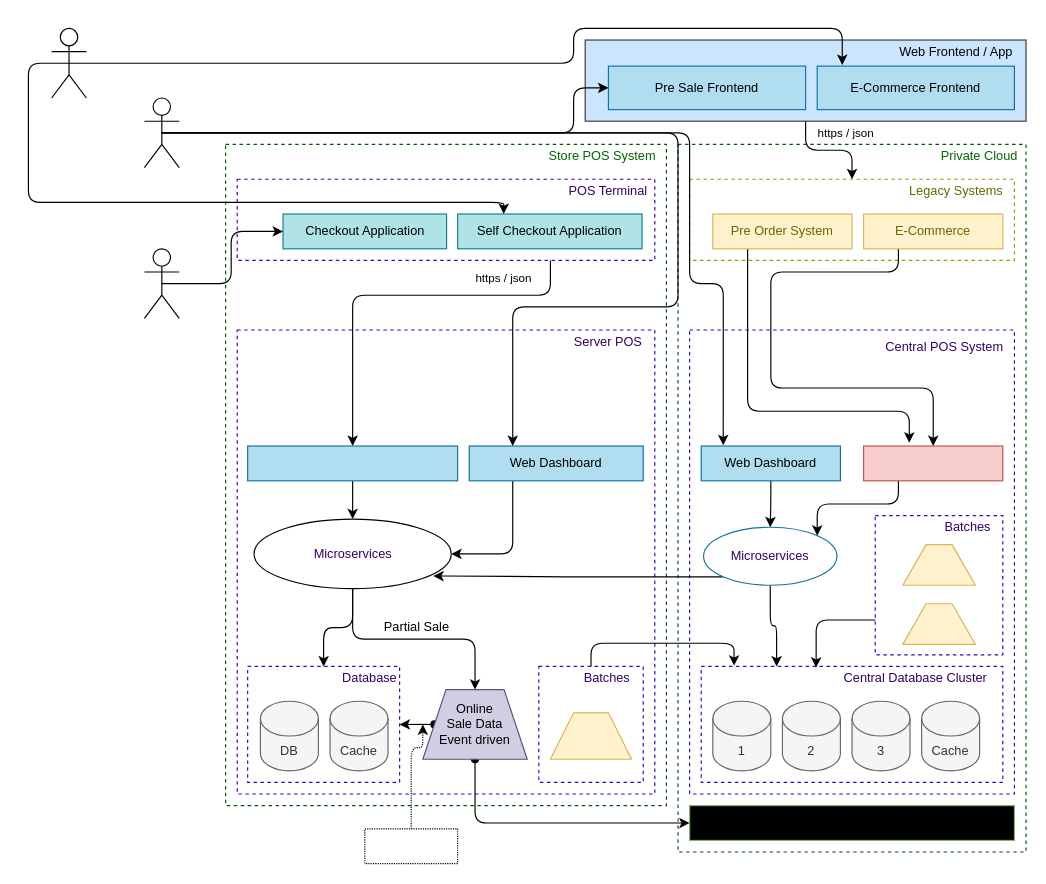
Image size: 1046x884. Some labels were removed from this diagram. Each missing label, with the centre of its shape:
"Cashier" belongs at pixel 161 283.
"Completed Sale" belongs at pixel 411 846.
"Customer" belongs at pixel 68 62.
"Foreign Sale API" belongs at pixel 932 463.
"Manager" belongs at pixel 161 132.
"Message Broker" belongs at pixel 851 822.
"POS API" belongs at pixel 352 463.
